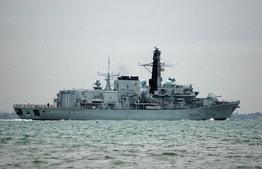warship: (14, 45, 239, 121)
